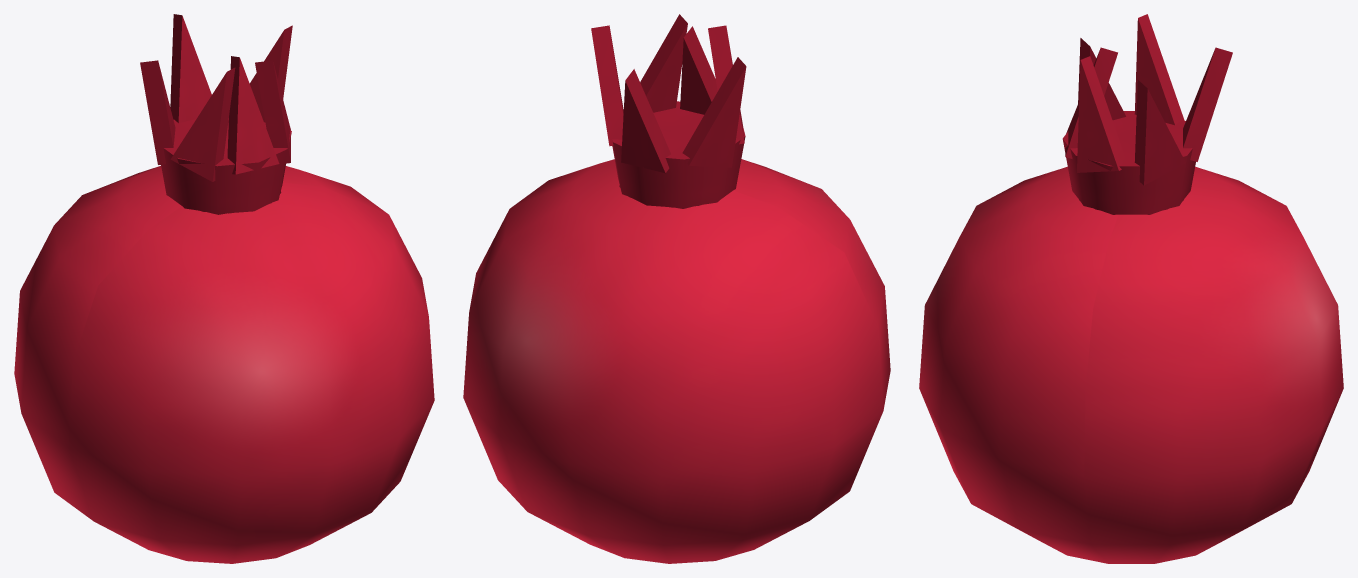
The model's file is pickup_nar.glb.
The picture shows the model from 3 angles, left to right: view 1: azimuth 30°, elevation 25°; view 2: azimuth 150°, elevation 25°; view 3: azimuth 270°, elevation 25°; orthographic projection.
Parts seen in each view (by area): view 1: pickup_nar; view 2: pickup_nar; view 3: pickup_nar.
Part boxes in pixels (box(x1,y1,x2,y2)): pickup_nar: box(14, 14, 434, 563); pickup_nar: box(463, 14, 890, 563); pickup_nar: box(919, 14, 1343, 563).
Bounding box in the file's own units: 0.3607 × 0.4676 × 0.37.
Materials: 1 (1 with a texture image).
